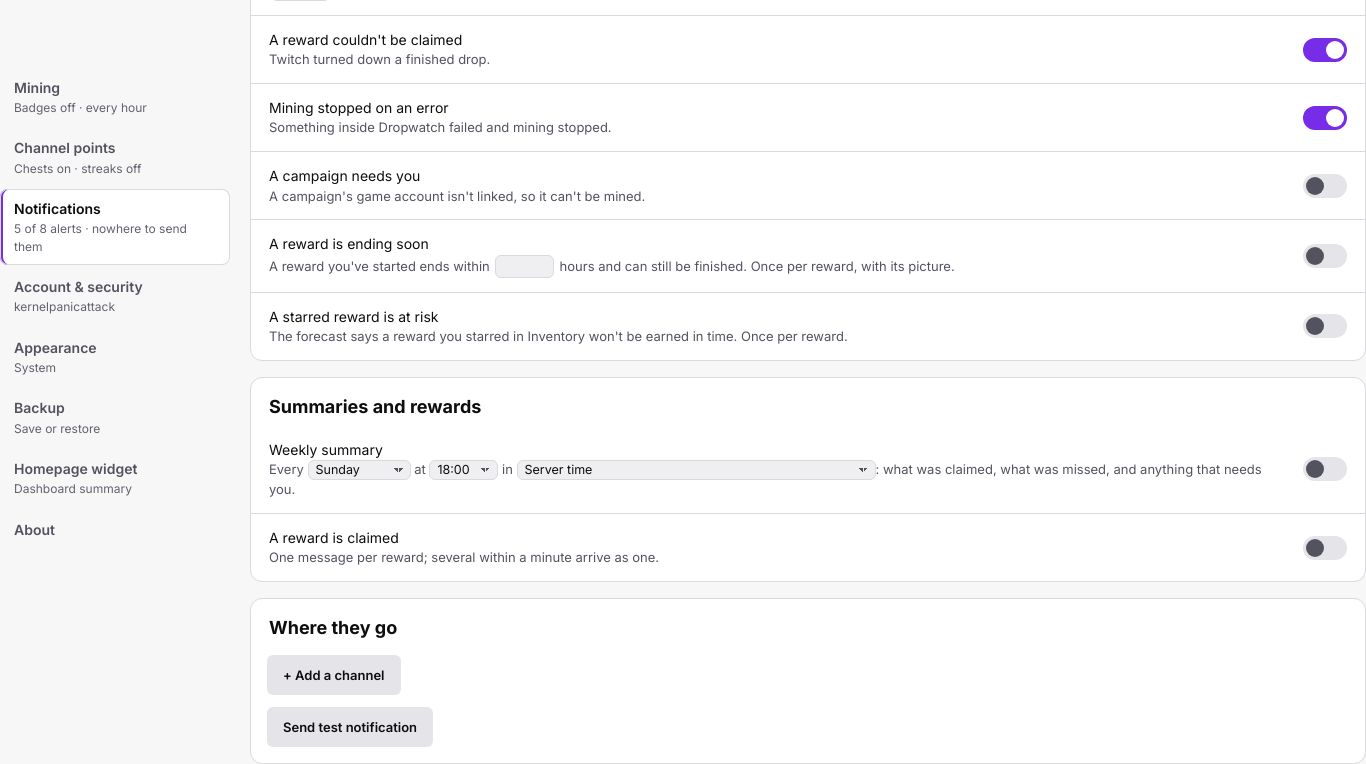
Test: adding a channel opens its editor; a secret is sent once and never shown back
(page scrolled)
Click the button "+ Add a channel": x=334, y=675 [267,655,400,695]
(page scrolled)
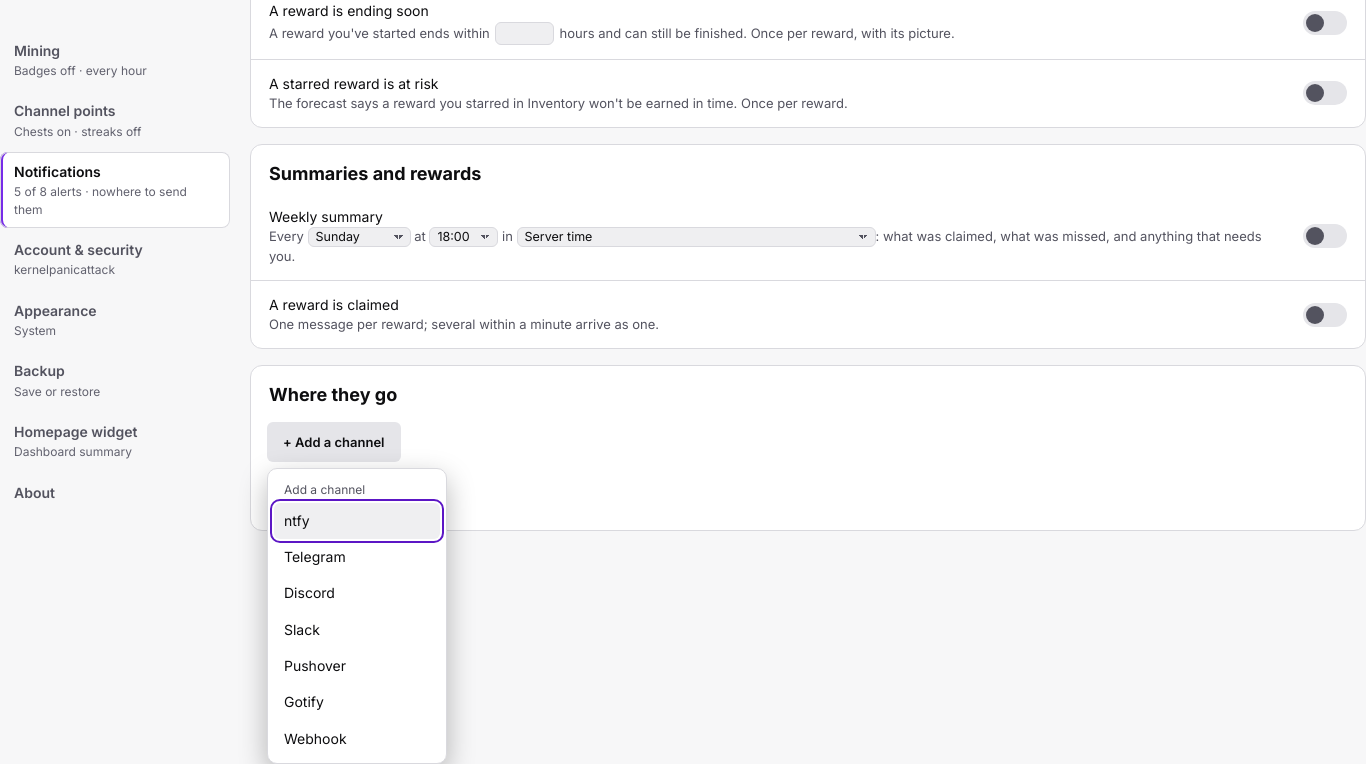
Click the menu item "Discord": x=357, y=594 [274,575,440,612]
(page scrolled)
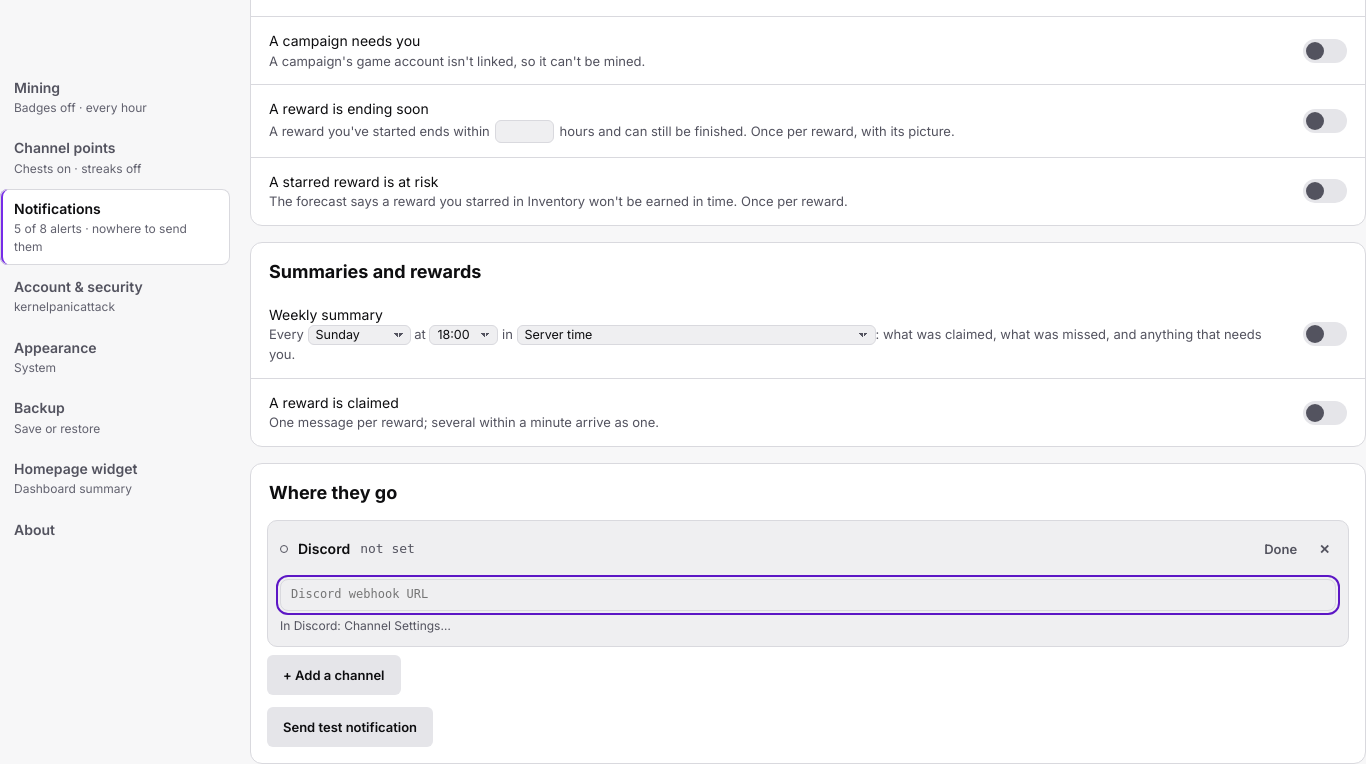
In the password field labelled "Discord webhook URL": x=808, y=595 [280,579,1336,611], type "https://discord.com/api/webhooks/1/SECRET"
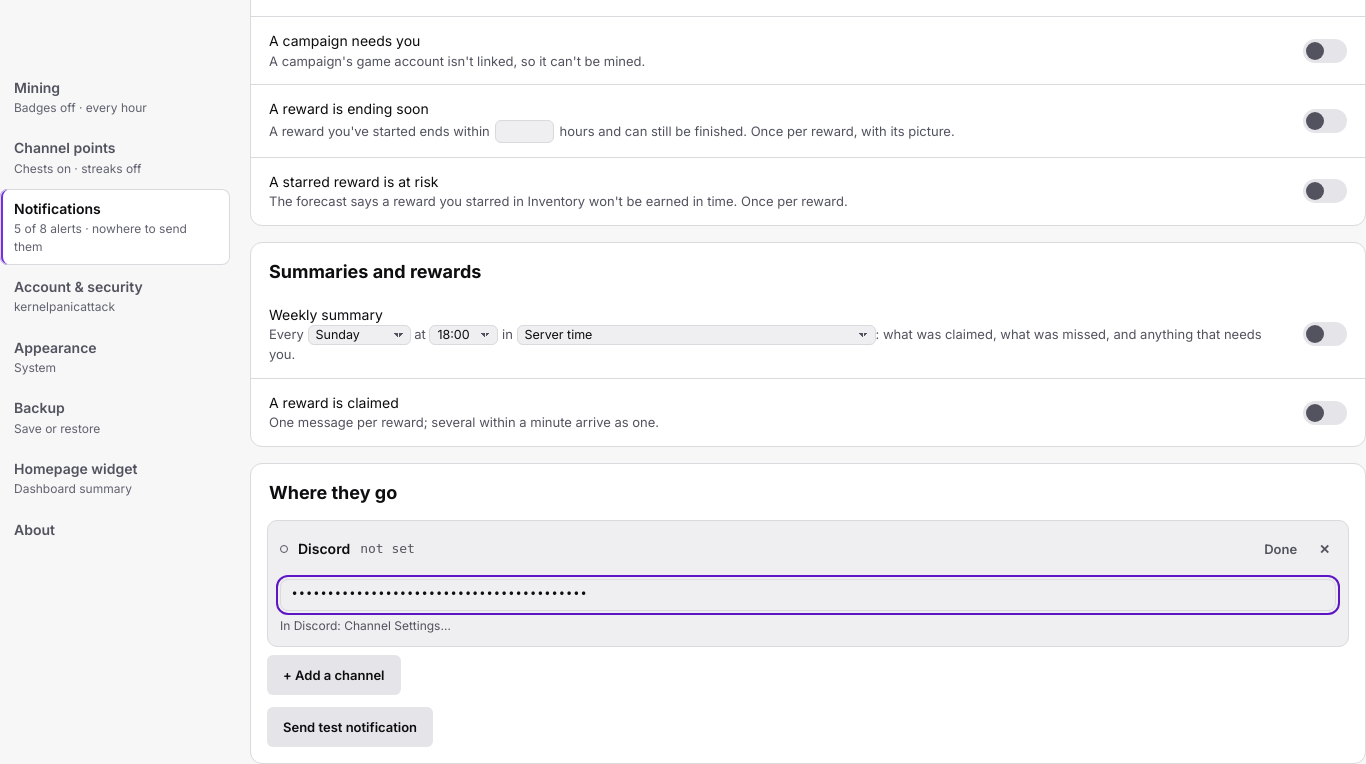
Press Tab
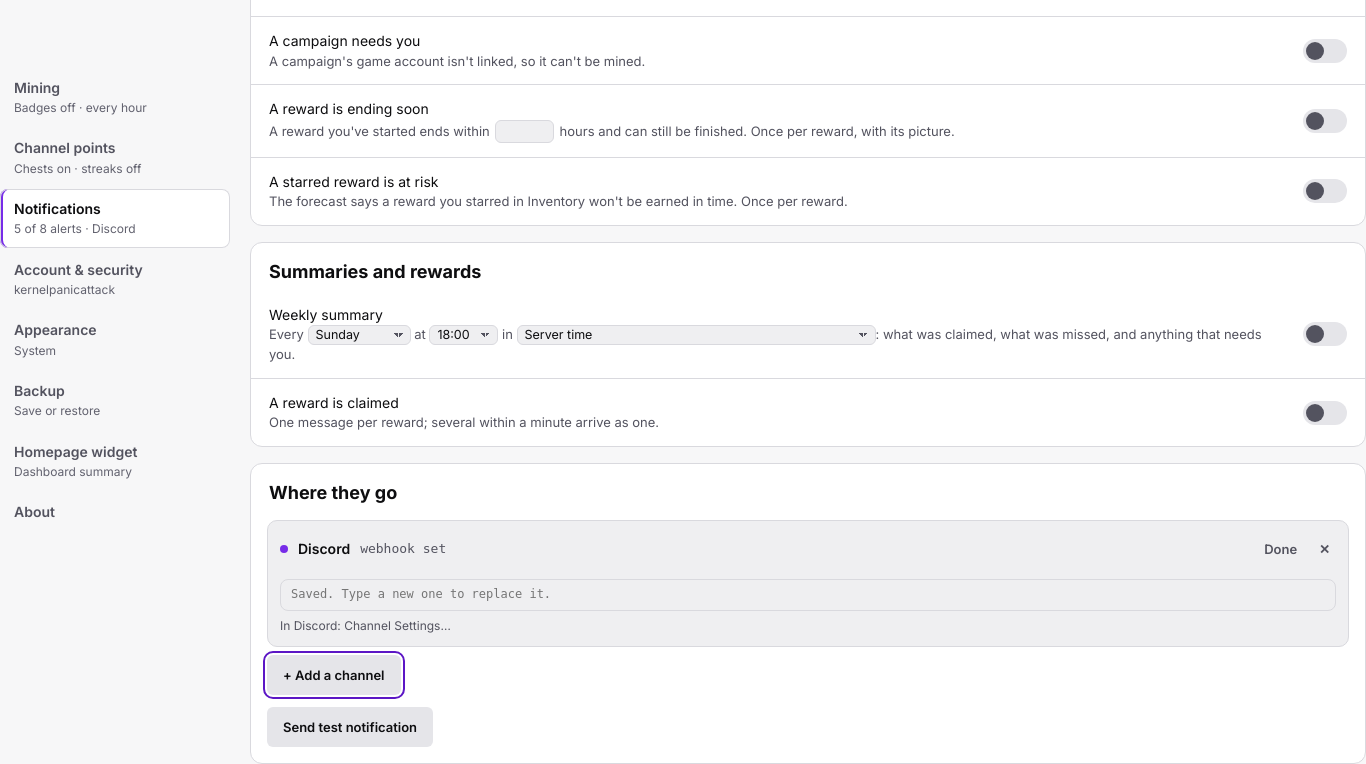
Expected: the text "webhook set" is shown, [360,540,446,559]
Expected: the password field named "Discord webhook URL" is empty, [280,579,1336,611]
